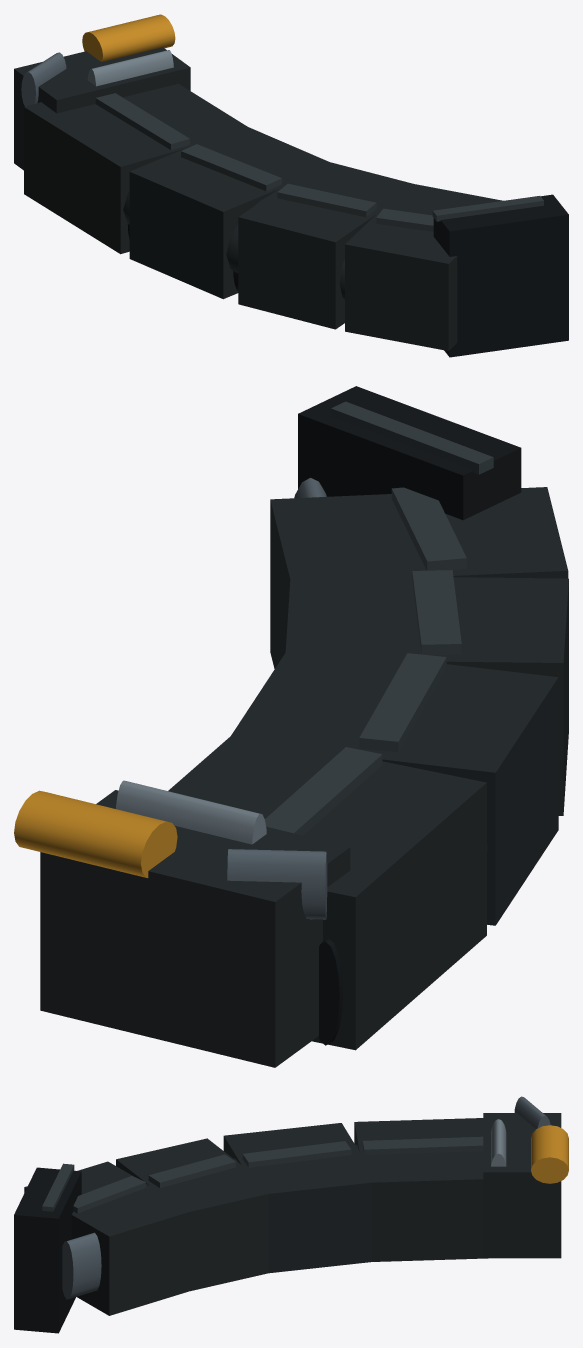
Rendered from CMU3DMp5MagazineCloud.glb.
3 renders of one model, top to bottom at view 1: azimuth 30°, elevation 25°; view 2: azimuth 150°, elevation 25°; view 3: azimuth 270°, elevation 25°, orthographic. The views are drawn at different scales.
Parts seen in each view (by area): view 1: curved shell segment 1, reinforced angled baseplate, curved shell segment 2, curved shell segment 3, curved shell segment 4, raised feed collar, source visible brass accent, stamped central trough 1, stamped central trough 2, stamped central trough 3, right rolled feed lip, baseplate upper seam (+3 smaller); view 2: raised feed collar, curved shell segment 1, curved shell segment 2, curved shell segment 3, curved shell segment 4, reinforced angled baseplate, source visible brass accent, right rolled feed lip, stamped central trough 2, stamped central trough 1, left rolled feed lip, stamped central trough 4 (+3 smaller); view 3: curved shell segment 1, curved shell segment 2, curved shell segment 4, curved shell segment 3, raised feed collar, reinforced angled baseplate, rounded outer seam 4, source visible brass accent, stamped central trough 1, stamped central trough 2, stamped central trough 3, stamped central trough 4 (+3 smaller).
Boxes of the visible parts, <box> form: curved shell segment 1: <box>24,84,251,254</box>; reinforced angled baseplate: <box>433,194,568,357</box>; curved shell segment 2: <box>129,127,328,299</box>; curved shell segment 3: <box>238,160,418,329</box>; curved shell segment 4: <box>345,183,503,350</box>; raised feed collar: <box>14,47,190,170</box>; source visible brass accent: <box>82,14,175,61</box>; stamped central trough 1: <box>95,93,189,150</box>; stamped central trough 2: <box>181,144,281,191</box>; stamped central trough 3: <box>277,183,376,217</box>; right rolled feed lip: <box>87,50,173,86</box>; baseplate upper seam: <box>432,196,543,221</box>; raised feed collar: <box>40,790,350,1067</box>; curved shell segment 1: <box>168,731,486,1050</box>; curved shell segment 2: <box>231,653,558,925</box>; curved shell segment 3: <box>285,575,568,815</box>; curved shell segment 4: <box>270,487,568,668</box>; reinforced angled baseplate: <box>298,386,521,520</box>; source visible brass accent: <box>14,790,177,877</box>; right rolled feed lip: <box>116,780,266,844</box>; stamped central trough 2: <box>359,653,446,752</box>; stamped central trough 1: <box>265,747,382,835</box>; left rolled feed lip: <box>227,849,327,919</box>; stamped central trough 4: <box>391,487,466,570</box>; curved shell segment 1: <box>354,1118,487,1261</box>; curved shell segment 2: <box>223,1123,377,1273</box>; curved shell segment 4: <box>24,1161,189,1315</box>; curved shell segment 3: <box>116,1138,268,1291</box>; raised feed collar: <box>483,1113,561,1258</box>; reinforced angled baseplate: <box>14,1167,81,1333</box>; rounded outer seam 4: <box>62,1232,101,1299</box>; source visible brass accent: <box>531,1125,568,1183</box>; stamped central trough 1: <box>362,1136,483,1155</box>; stamped central trough 2: <box>242,1141,351,1167</box>; stamped central trough 3: <box>148,1154,235,1187</box>; stamped central trough 4: <box>73,1176,145,1213</box>.
Size of the model in its own units: 0.2426 by 0.112 by 0.4559.
